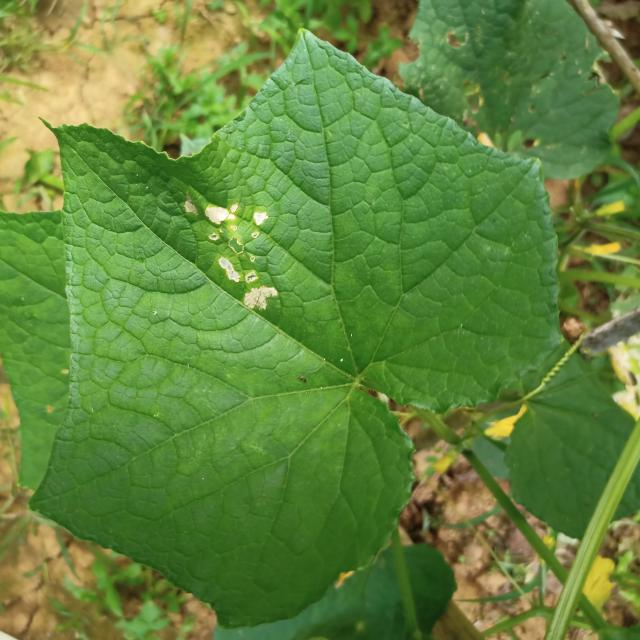disease_cucumber: (180, 190, 288, 326)
